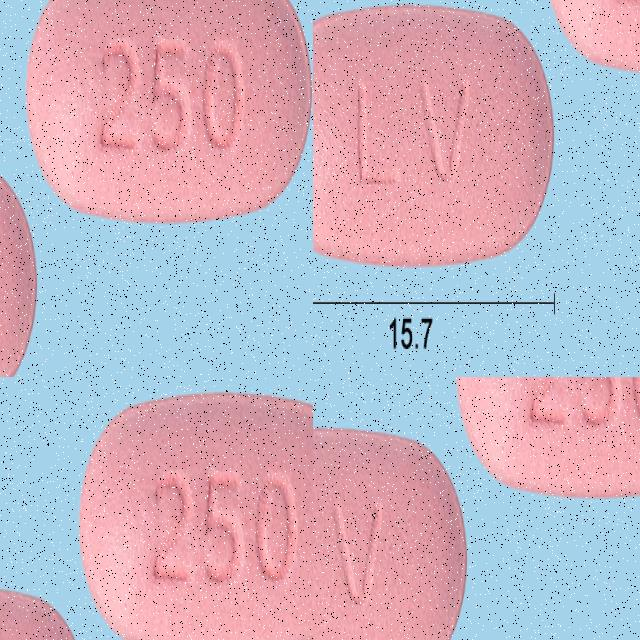Lexacin: (313, 429, 465, 640), (457, 377, 640, 495)
Samsung Clarithromycin Tab: (86, 398, 313, 640)
Samsung Clarithromycin Tab-500mg: (313, 0, 564, 262)
